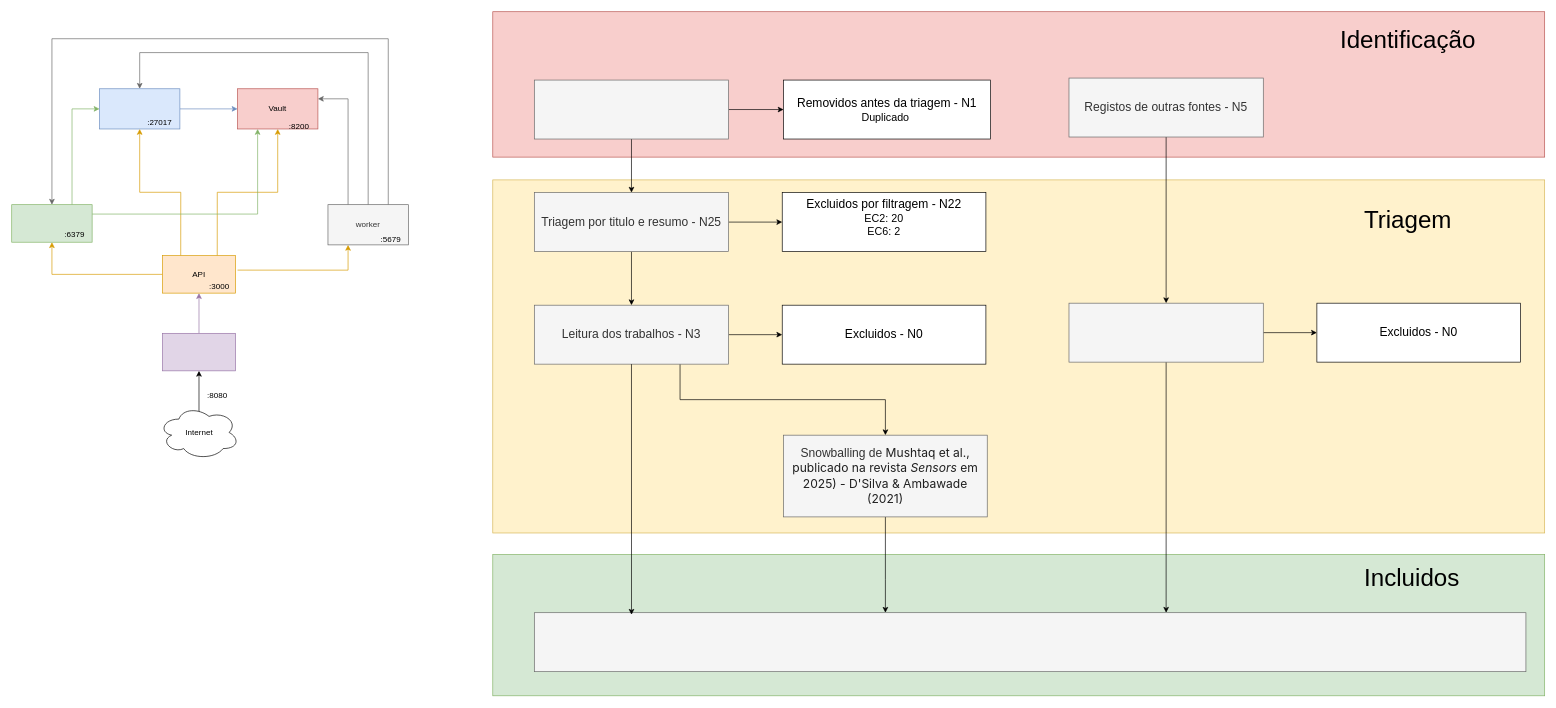
Image size: 1556x708. Some labels were removed from this diagram. The shapes that lost their labels are listed below. From the top down, each one's box as (x1, y1, x2, y2) in pixels, then its label:
(99, 88, 180, 129): Mongo
(534, 79, 729, 139): Registos identificados - N26
(11, 204, 92, 242): Redis
(162, 333, 236, 371): Frontend
(1068, 303, 1263, 362): Leitura dos trabalhos - N5
(534, 612, 1526, 672): Trabalhos incluidos na revisão - N8
